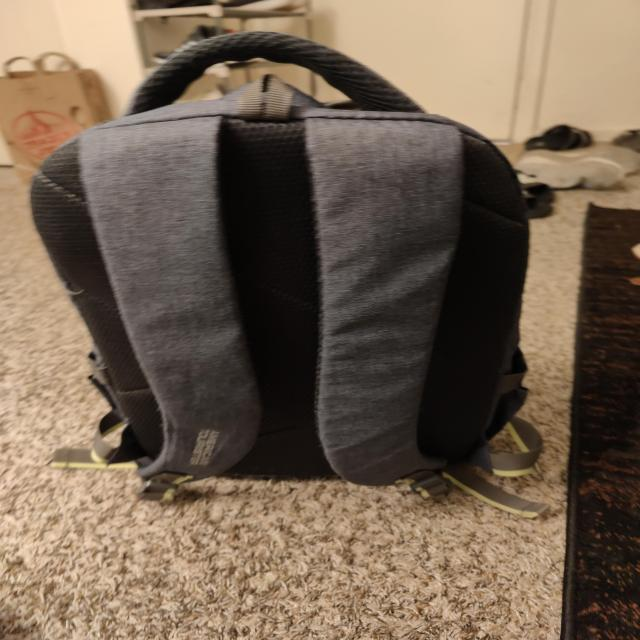bag: (8, 42, 538, 471)
